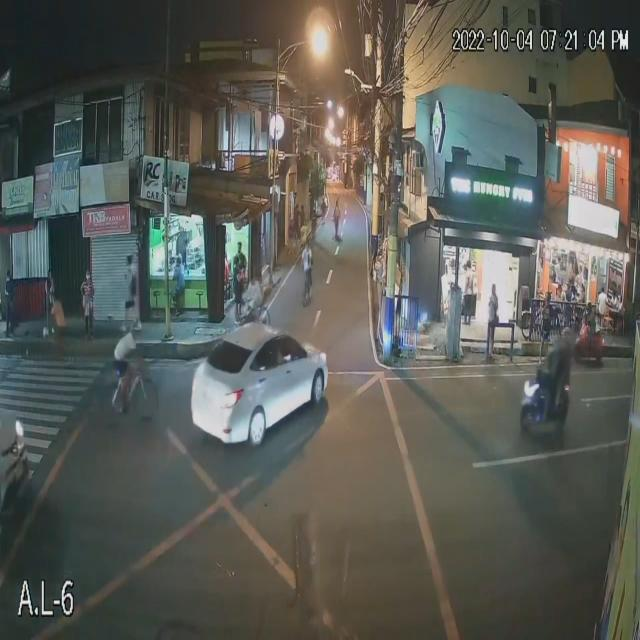Full-Faced: (583, 300, 593, 316)
